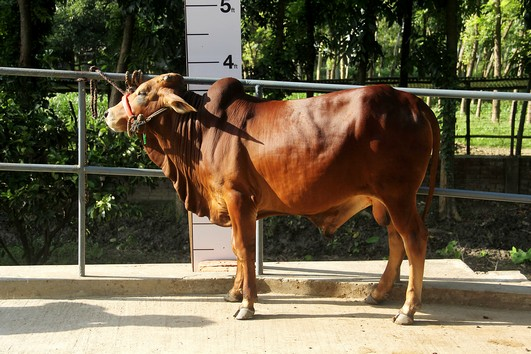cow: (96, 67, 448, 326)
